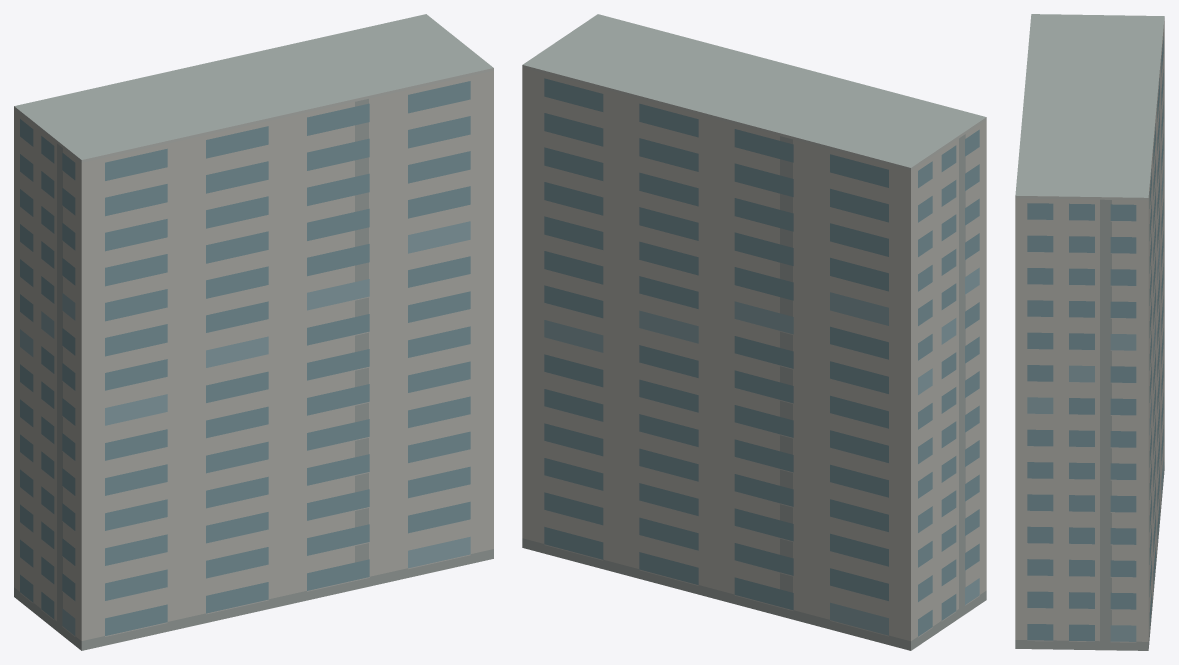
File: residential-839f424d-fa14-4d54-b618-3ad0f253c96a.glb
3 views of the same model, side by side, from view 1: azimuth 30°, elevation 25°; view 2: azimuth 150°, elevation 25°; view 3: azimuth 270°, elevation 25° (orthographic). The views are drawn at different scales.
Visible parts, largest first — view 1: residential-839f424d-fa14-4d54-b618-3ad0f253c96a.tmp; view 2: residential-839f424d-fa14-4d54-b618-3ad0f253c96a.tmp; view 3: residential-839f424d-fa14-4d54-b618-3ad0f253c96a.tmp.
Boxes of the visible parts, x1=… form: residential-839f424d-fa14-4d54-b618-3ad0f253c96a.tmp: x1=14, y1=14, x2=493, y2=650; residential-839f424d-fa14-4d54-b618-3ad0f253c96a.tmp: x1=522, y1=14, x2=986, y2=650; residential-839f424d-fa14-4d54-b618-3ad0f253c96a.tmp: x1=1015, y1=14, x2=1164, y2=650.
Bounding box in the file's own units: 36.57 × 42 × 12.55.
